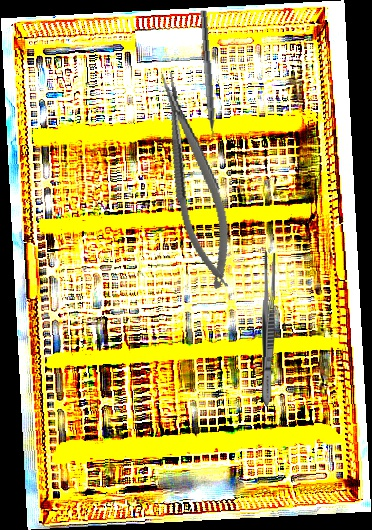Chopper: (190, 9, 220, 151)
Dressing Forceps: (259, 249, 277, 408)
Needle Holder: (150, 66, 242, 295)
